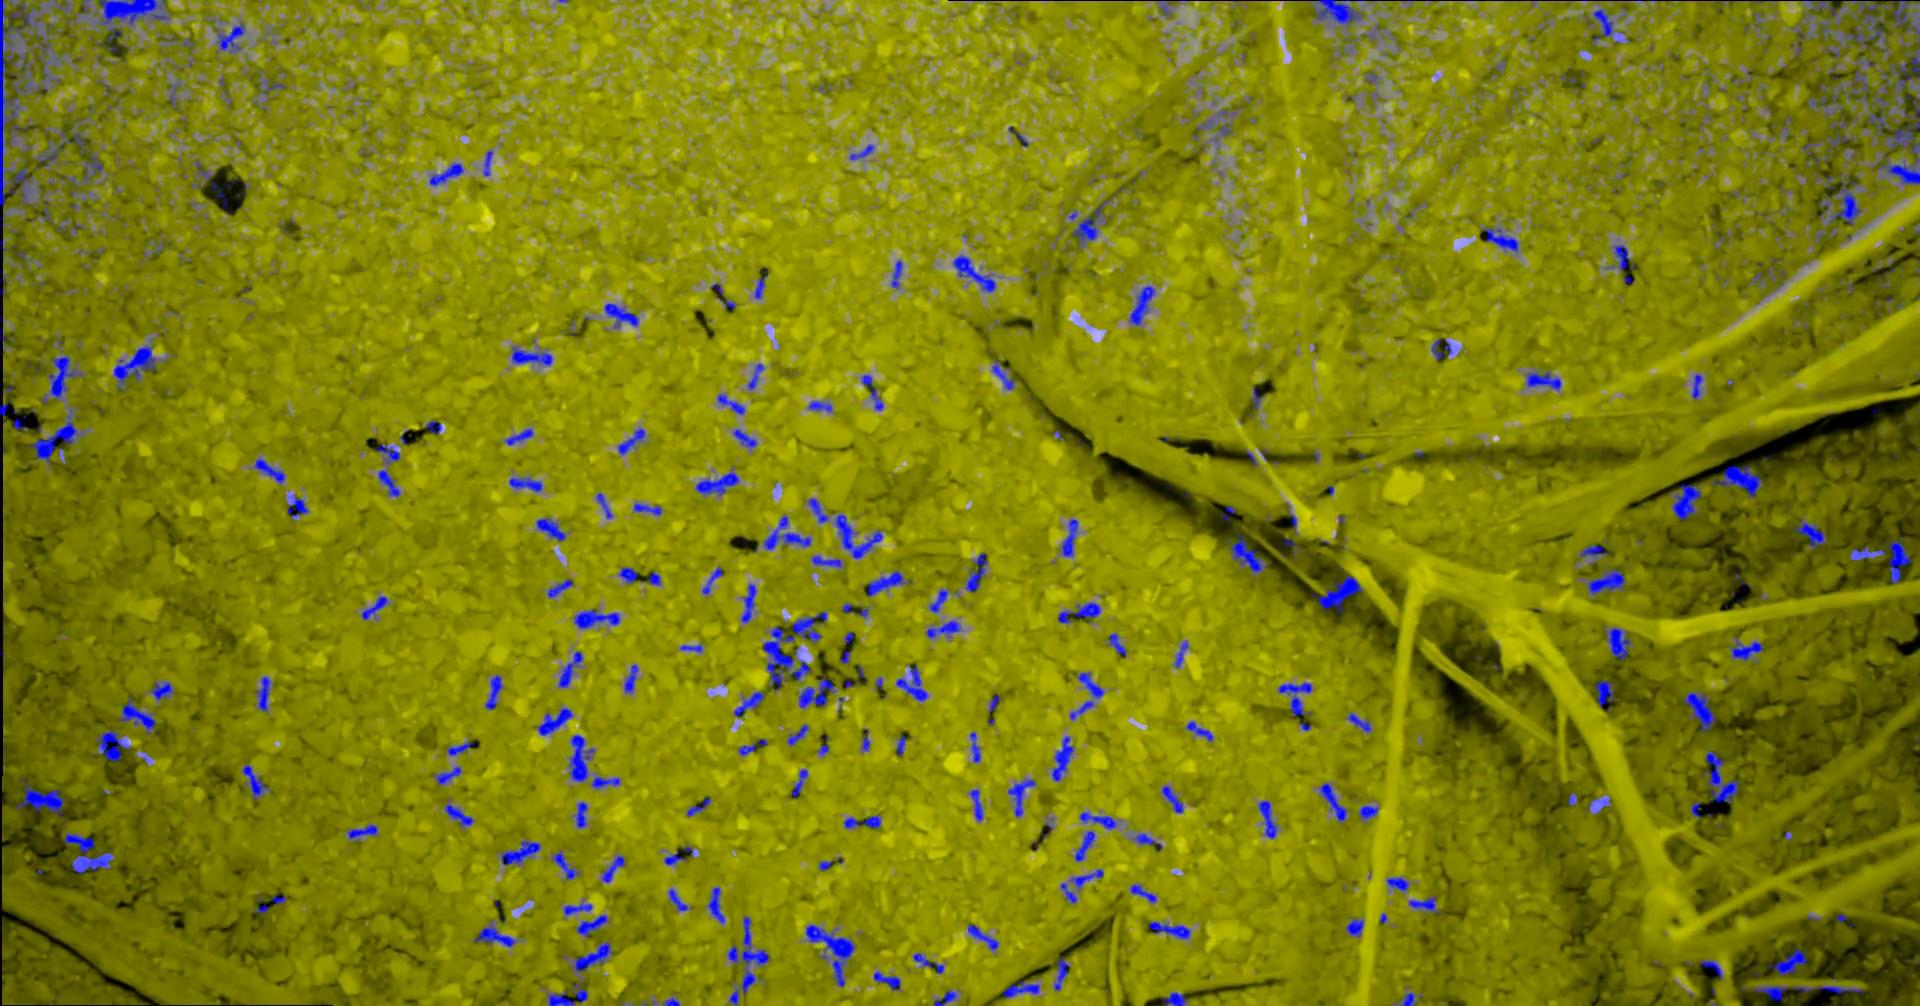ant: (726, 916, 770, 1005), (33, 130, 102, 180), (805, 923, 855, 986), (25, 408, 79, 464), (1806, 116, 1857, 165), (1816, 173, 1862, 225), (834, 514, 883, 558), (1310, 575, 1363, 614), (1702, 749, 1738, 803), (63, 832, 112, 873), (113, 345, 155, 389), (1712, 464, 1763, 498), (1072, 198, 1109, 245), (763, 514, 811, 549), (1225, 533, 1267, 573), (952, 254, 996, 292), (1069, 672, 1103, 719), (15, 782, 63, 815), (48, 354, 83, 399), (1310, 0, 1371, 24), (119, 696, 156, 734), (568, 734, 596, 782), (571, 940, 612, 973), (1683, 691, 1716, 730), (1884, 536, 1911, 583), (895, 664, 928, 701), (695, 467, 739, 494), (1670, 483, 1702, 520), (797, 677, 836, 708), (1318, 782, 1349, 821), (472, 920, 516, 946), (1277, 682, 1310, 716), (866, 570, 909, 596), (95, 729, 130, 761), (1128, 285, 1154, 325), (1007, 779, 1035, 817), (1768, 948, 1806, 976), (241, 763, 270, 799), (1793, 517, 1825, 549), (1592, 8, 1623, 41), (1603, 626, 1632, 661), (500, 840, 540, 865), (536, 708, 571, 735), (1051, 735, 1073, 781), (1587, 568, 1624, 594), (1610, 244, 1634, 283), (547, 981, 587, 1005), (1481, 226, 1517, 251), (557, 650, 583, 687), (1057, 601, 1100, 622), (573, 608, 618, 627), (965, 553, 987, 592), (216, 22, 244, 51), (550, 851, 579, 879), (968, 923, 998, 950), (733, 691, 764, 716), (510, 345, 552, 365), (604, 304, 637, 328), (1730, 636, 1763, 661), (861, 373, 883, 410), (429, 163, 463, 185), (617, 427, 645, 455), (1257, 800, 1277, 838), (1148, 921, 1190, 939), (1069, 868, 1103, 889), (990, 358, 1015, 389), (254, 459, 284, 483), (535, 517, 565, 541), (1525, 370, 1561, 390), (1793, 984, 1863, 995), (444, 803, 474, 827), (1079, 810, 1116, 829), (913, 951, 943, 973), (924, 620, 961, 638), (706, 887, 724, 923), (1002, 979, 1039, 997), (1074, 829, 1095, 861), (361, 594, 387, 619), (577, 915, 606, 936), (484, 674, 502, 709), (1161, 785, 1183, 812), (601, 855, 623, 882), (1594, 680, 1613, 711), (716, 392, 744, 414), (377, 469, 399, 497), (701, 567, 723, 594), (740, 583, 756, 622), (254, 674, 270, 710), (1752, 984, 1788, 1001), (286, 494, 309, 520), (872, 970, 900, 991), (345, 823, 377, 841), (1062, 520, 1077, 556), (1804, 0, 1837, 17), (1053, 956, 1069, 989), (1849, 545, 1884, 560), (432, 766, 461, 784), (1408, 895, 1437, 913), (1807, 84, 1827, 109), (731, 428, 757, 448), (808, 497, 828, 522), (149, 680, 174, 700), (1185, 721, 1211, 741), (1129, 883, 1156, 902), (737, 738, 767, 754), (790, 768, 808, 796), (375, 443, 399, 464), (928, 588, 949, 612), (547, 578, 573, 597), (686, 796, 711, 815), (504, 428, 533, 445), (508, 478, 542, 492), (843, 815, 880, 828), (1431, 337, 1451, 359), (1134, 833, 1162, 850), (1347, 713, 1371, 732), (1698, 959, 1722, 978), (747, 363, 764, 389), (1578, 542, 1608, 558), (969, 789, 983, 821), (596, 492, 612, 518), (787, 724, 808, 746), (1107, 633, 1126, 655), (1173, 640, 1189, 668), (446, 741, 476, 754), (211, 183, 227, 208), (193, 159, 212, 180), (668, 888, 687, 909), (623, 664, 637, 694), (1792, 29, 1806, 57), (563, 901, 590, 915), (1394, 991, 1422, 1005), (1283, 537, 1300, 559), (811, 555, 844, 567), (663, 848, 686, 865), (573, 801, 587, 828), (632, 502, 662, 514), (850, 144, 874, 159), (932, 989, 956, 1005), (969, 730, 980, 762), (1161, 991, 1186, 1005), (1818, 192, 1831, 218), (1345, 917, 1363, 936), (1831, 83, 1843, 112), (890, 259, 902, 288), (1060, 882, 1076, 903), (253, 893, 268, 915), (590, 776, 618, 788), (1385, 876, 1408, 890), (618, 567, 637, 583), (1357, 805, 1378, 821), (754, 274, 767, 298), (168, 83, 179, 108), (808, 400, 832, 412), (1159, 0, 1176, 17), (1691, 373, 1702, 399), (988, 694, 1001, 713), (817, 735, 829, 754), (425, 419, 441, 434), (11, 417, 28, 431), (259, 83, 284, 91), (483, 150, 491, 175), (1251, 386, 1261, 408), (0, 269, 8, 297), (1222, 506, 1236, 521), (895, 735, 905, 756), (1801, 142, 1816, 155), (648, 572, 660, 586), (679, 644, 702, 652), (861, 730, 870, 749), (1818, 22, 1829, 38), (1218, 123, 1230, 136), (1690, 801, 1700, 817)
